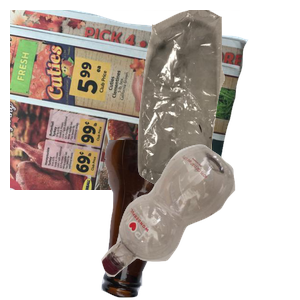glass: (99, 140, 300, 300)
paper: (10, 10, 250, 190)
plastic: (99, 142, 300, 300)
trash: (114, 10, 300, 190)
